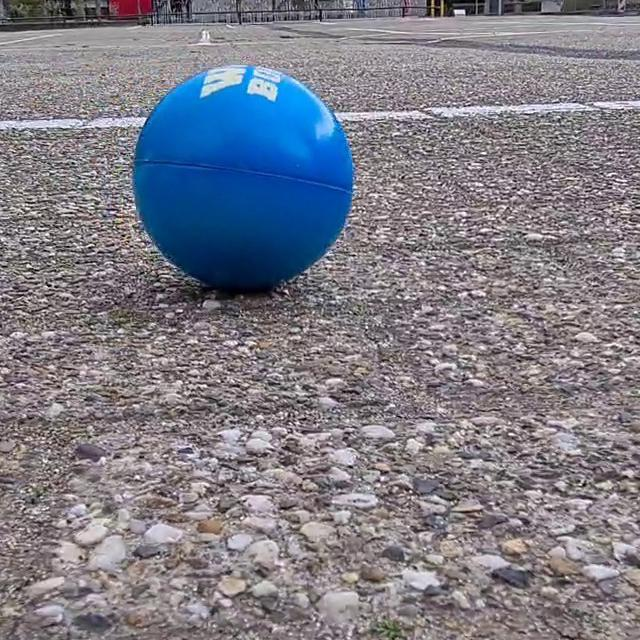ball: (128, 59, 360, 299)
